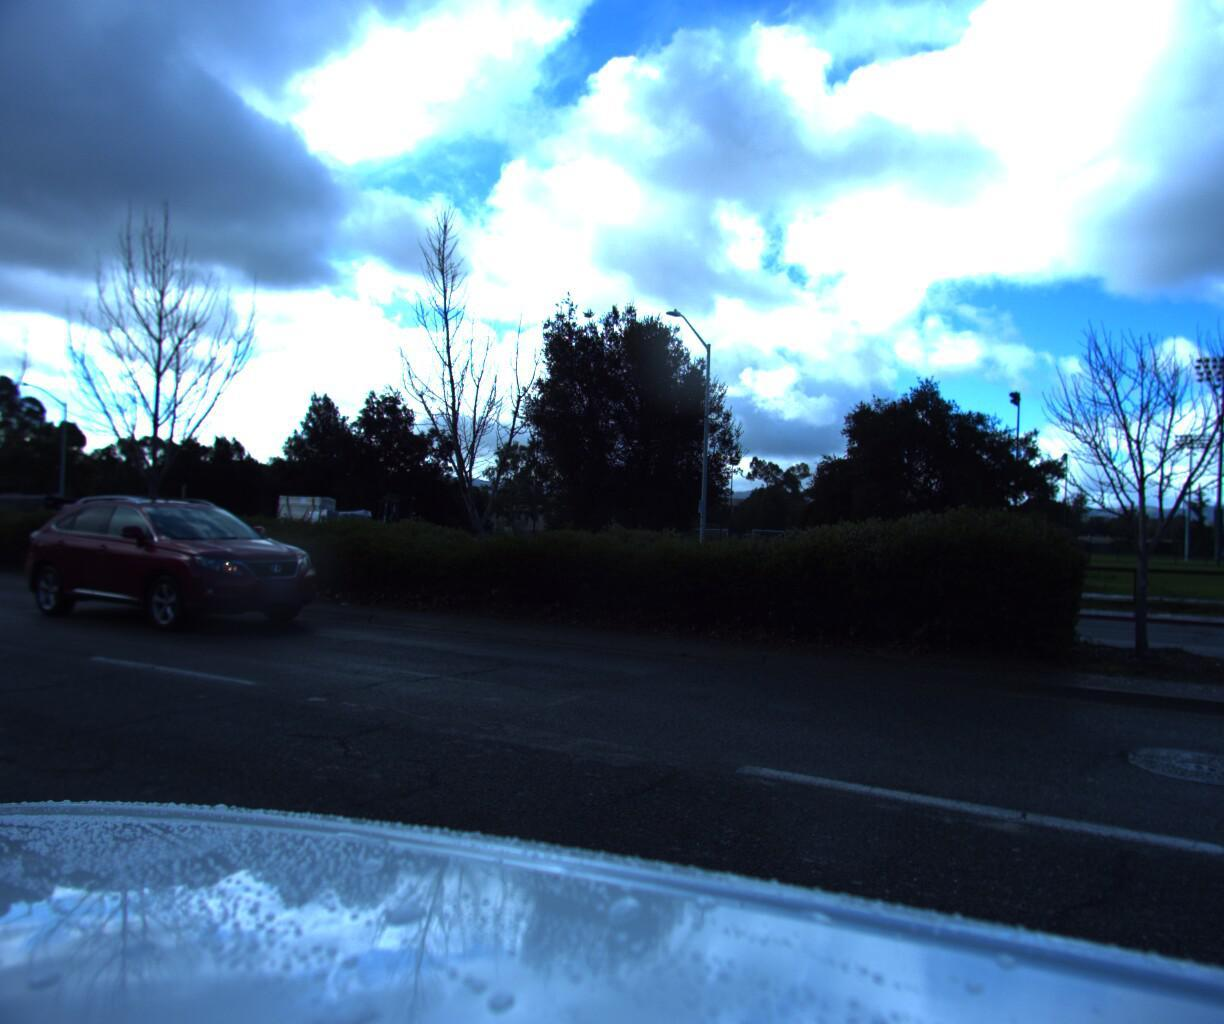car: (4, 495, 349, 651)
truck: (112, 481, 377, 570), (0, 489, 88, 556)
